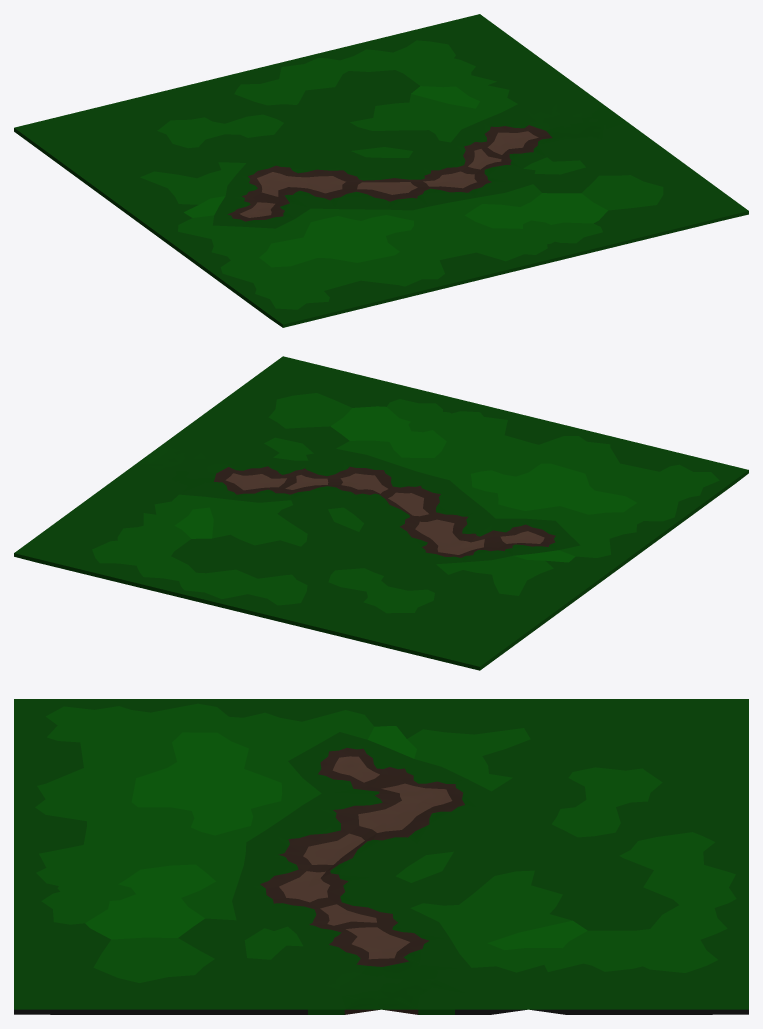
File: TerrainFlat01.fbx
The picture shows the model from 3 angles, top to bottom: view 1: azimuth 30°, elevation 25°; view 2: azimuth 150°, elevation 25°; view 3: azimuth 270°, elevation 25°; orthographic projection. The views are drawn at different scales.
Parts seen in each view (by area): view 1: TerrainFlat07; view 2: TerrainFlat07; view 3: TerrainFlat07.
Part boxes in pixels (bbox=[...]): TerrainFlat07: bbox=[14, 14, 748, 327]; TerrainFlat07: bbox=[14, 356, 748, 670]; TerrainFlat07: bbox=[14, 699, 748, 1014].
Size of the model in its own units: 20 by 0.1588 by 20.
